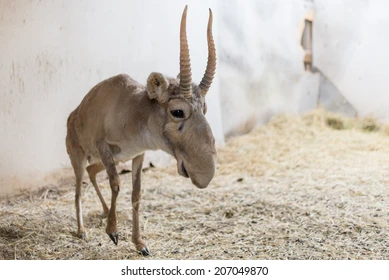saiga: (64, 5, 219, 255)
